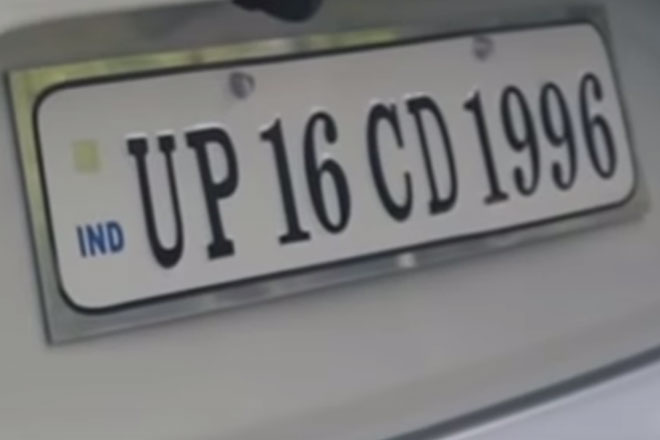number_plates: (25, 71, 637, 266)
